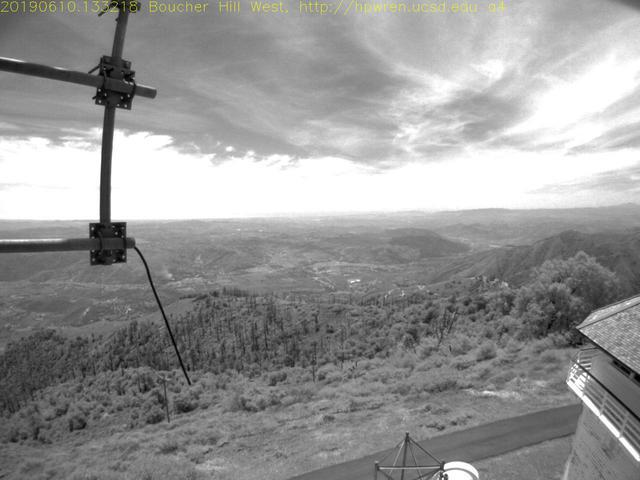smoke: (144, 243, 176, 282)
